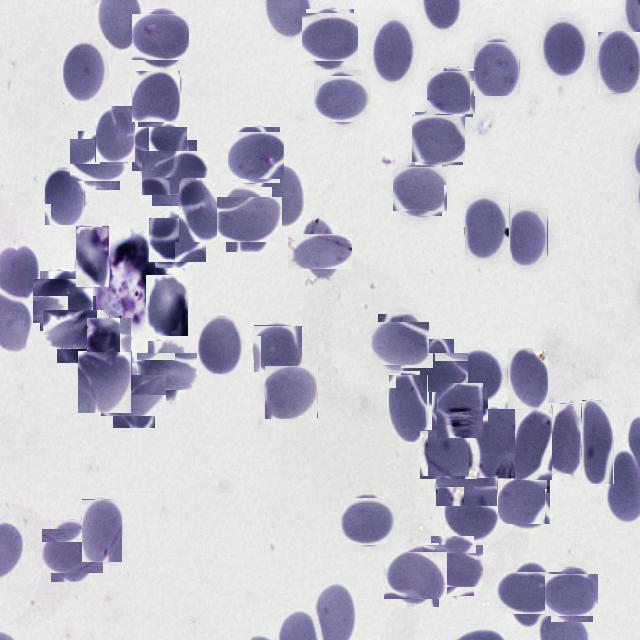red blood cell: (78, 351, 132, 413), (469, 409, 515, 478), (221, 192, 277, 248), (387, 548, 443, 604), (501, 566, 557, 620), (146, 146, 202, 200), (465, 194, 510, 261), (511, 408, 552, 481), (63, 39, 109, 104), (436, 458, 498, 506), (407, 346, 461, 400), (46, 524, 100, 578), (420, 429, 478, 479), (179, 178, 224, 242), (106, 369, 160, 422), (373, 17, 416, 83), (50, 303, 103, 356), (264, 366, 318, 418), (388, 374, 428, 442), (342, 496, 394, 548), (316, 73, 368, 125), (304, 12, 356, 64), (426, 540, 478, 592), (36, 275, 88, 327), (230, 129, 282, 181), (135, 11, 187, 63), (434, 384, 486, 436), (548, 403, 586, 474), (582, 400, 614, 484), (259, 166, 303, 227), (198, 316, 244, 374), (152, 214, 203, 265), (374, 317, 425, 368), (82, 499, 123, 562), (146, 275, 188, 336), (598, 32, 640, 93), (74, 135, 124, 186), (474, 41, 520, 96), (135, 124, 185, 174), (394, 164, 444, 214), (142, 346, 192, 396), (414, 114, 464, 164), (295, 226, 345, 276), (499, 476, 548, 526), (132, 71, 180, 122), (508, 348, 548, 409), (544, 19, 586, 76), (548, 571, 596, 619), (254, 325, 302, 373), (457, 349, 503, 399), (45, 168, 85, 225), (94, 106, 134, 162), (76, 225, 110, 288), (428, 70, 474, 116), (512, 208, 548, 266), (448, 500, 498, 540), (88, 318, 130, 362)
